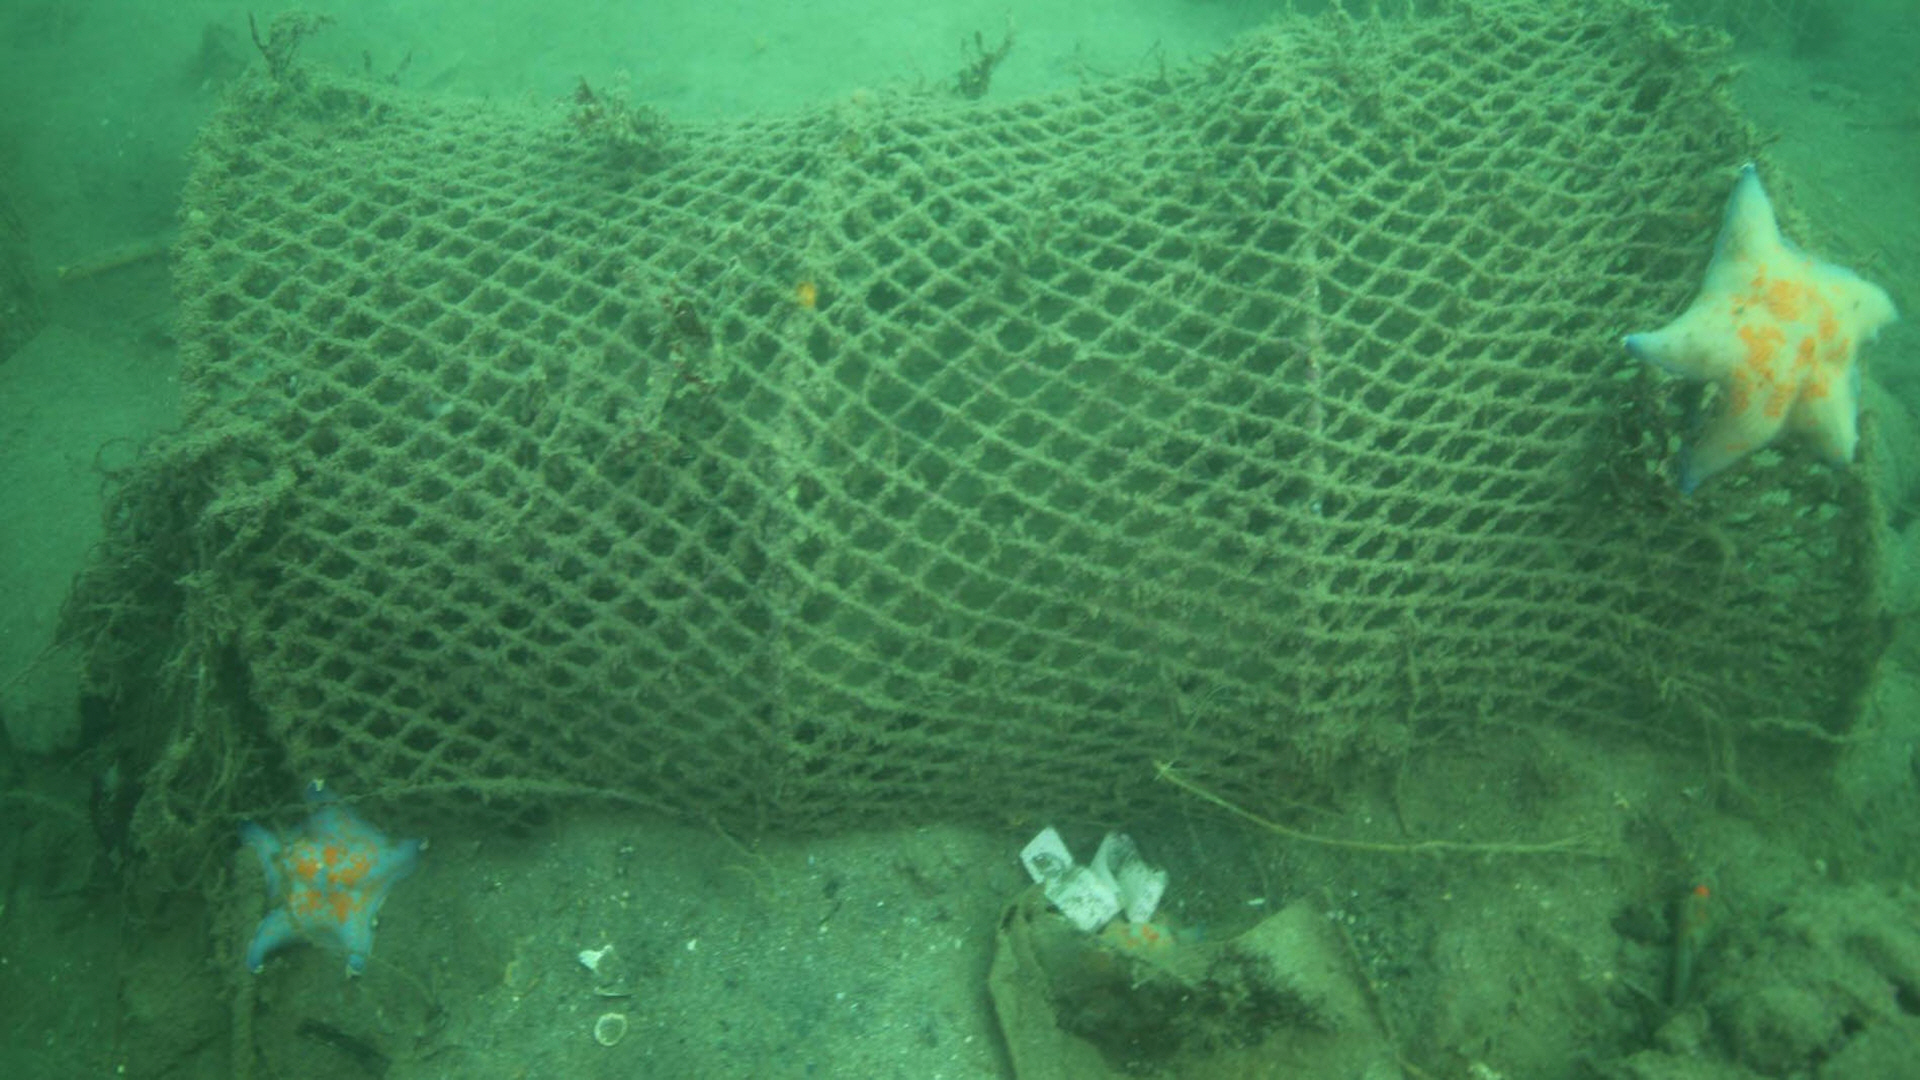spring fish trap: (174, 0, 1890, 820)
